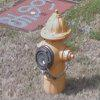Hydrant: (28, 8, 78, 92)
